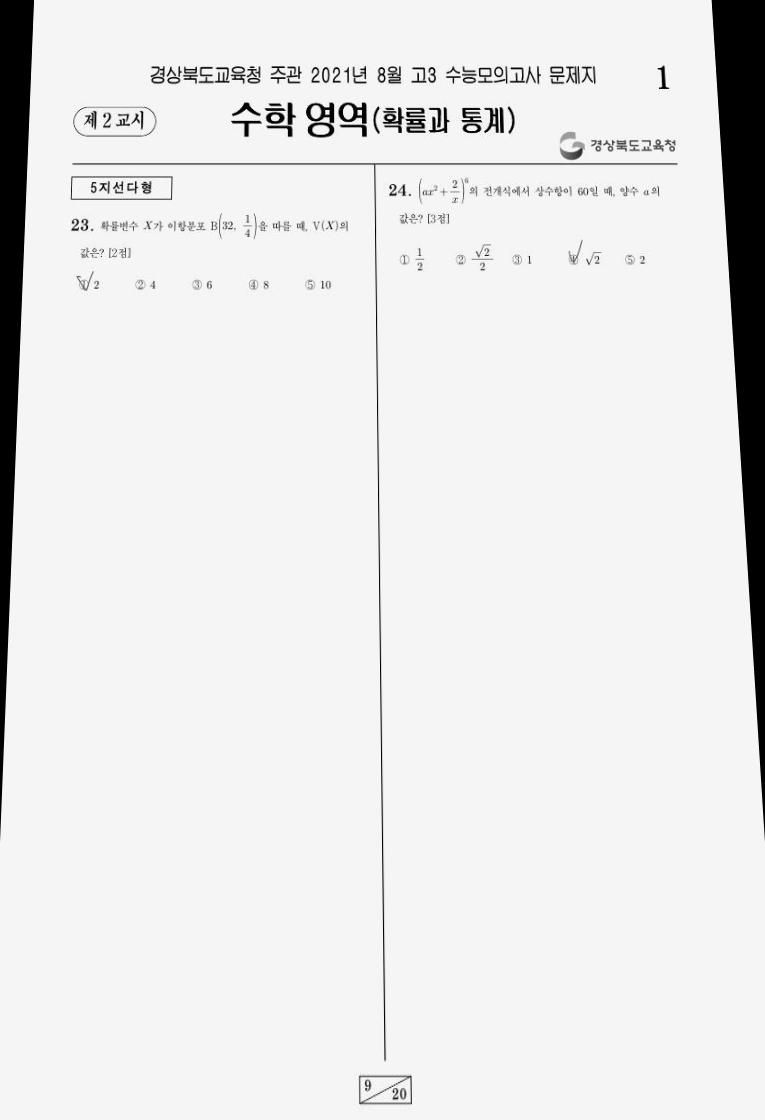question: (378, 170, 672, 290), (58, 205, 364, 307)
